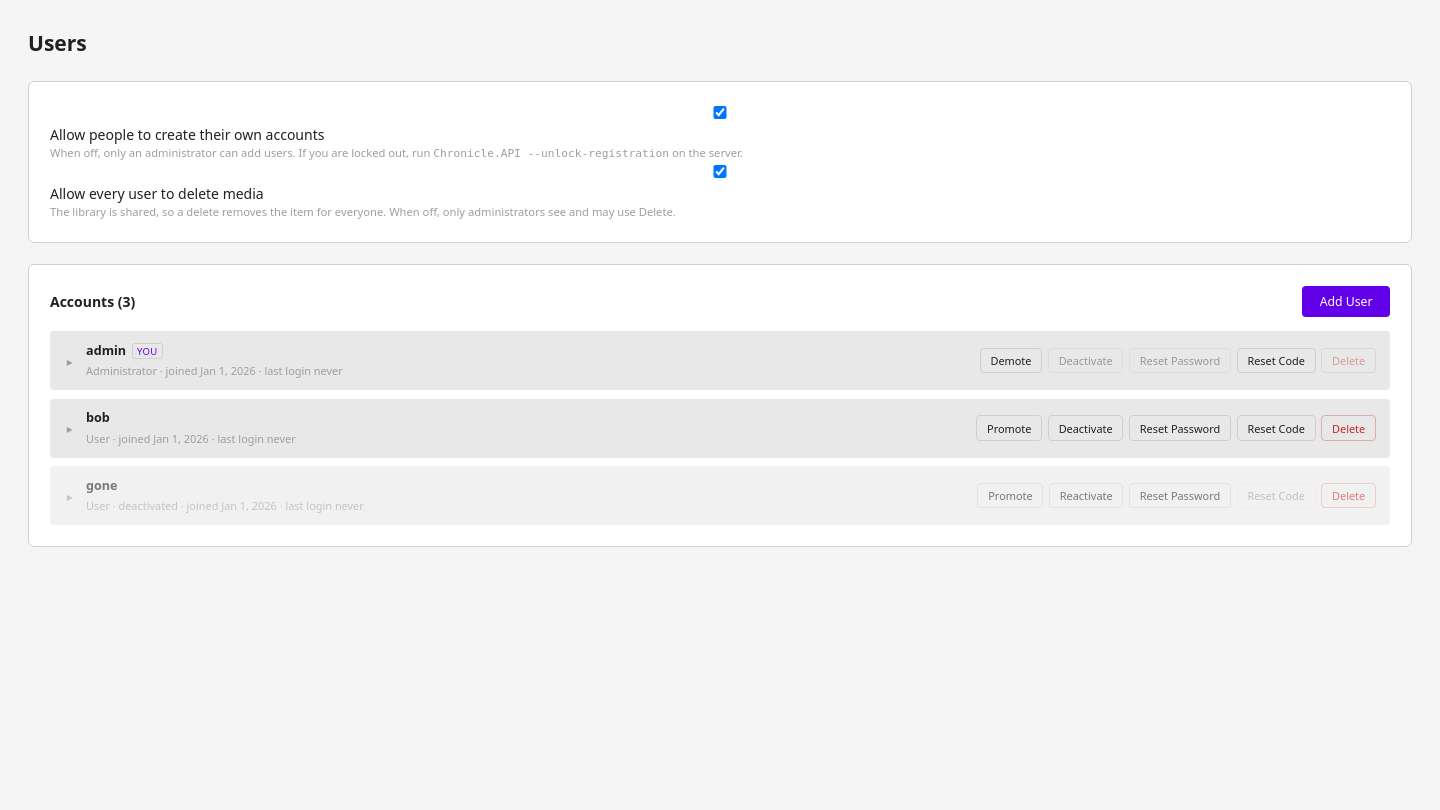
Test: UsersPage reset codes › shows a one-time code for the chosen person, with the link, and can be dismissed
The width and height of the screenshot is (1440, 810).
Click the button "Reset Code" in the row of "bob": click(1276, 428) [1237,415,1316,441]
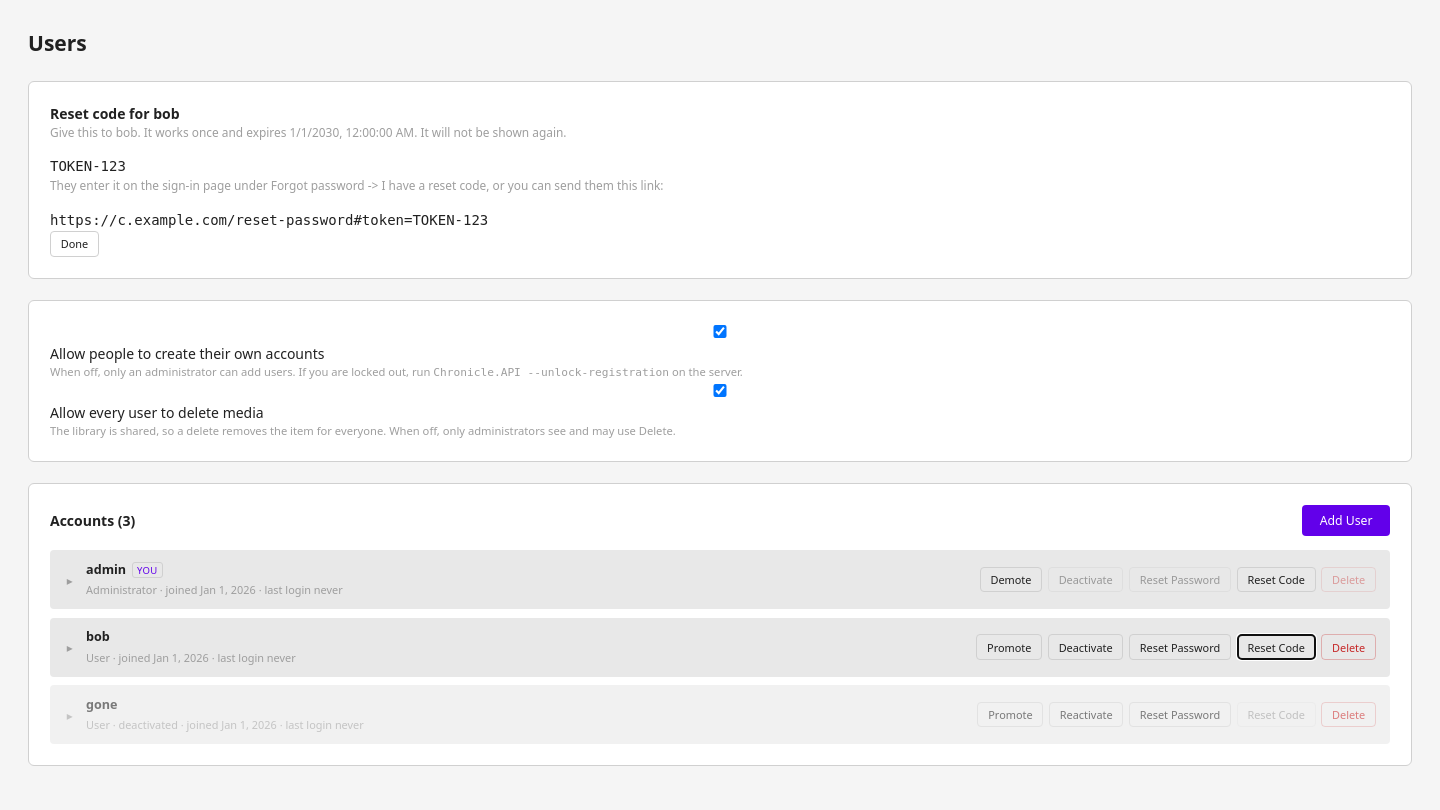
Result: the text with test id "reset-code" reads "TOKEN-123" at [50,158,126,174]
Result: the dialog "Reset code" shows "It will not be shown again" at [414,124,566,140]
Result: the dialog "Reset code" shows "https://c.example.com/reset-password#token=TOKEN-123" at [50,212,488,228]
Click the button "Done": click(74, 244) [50,231,99,257]
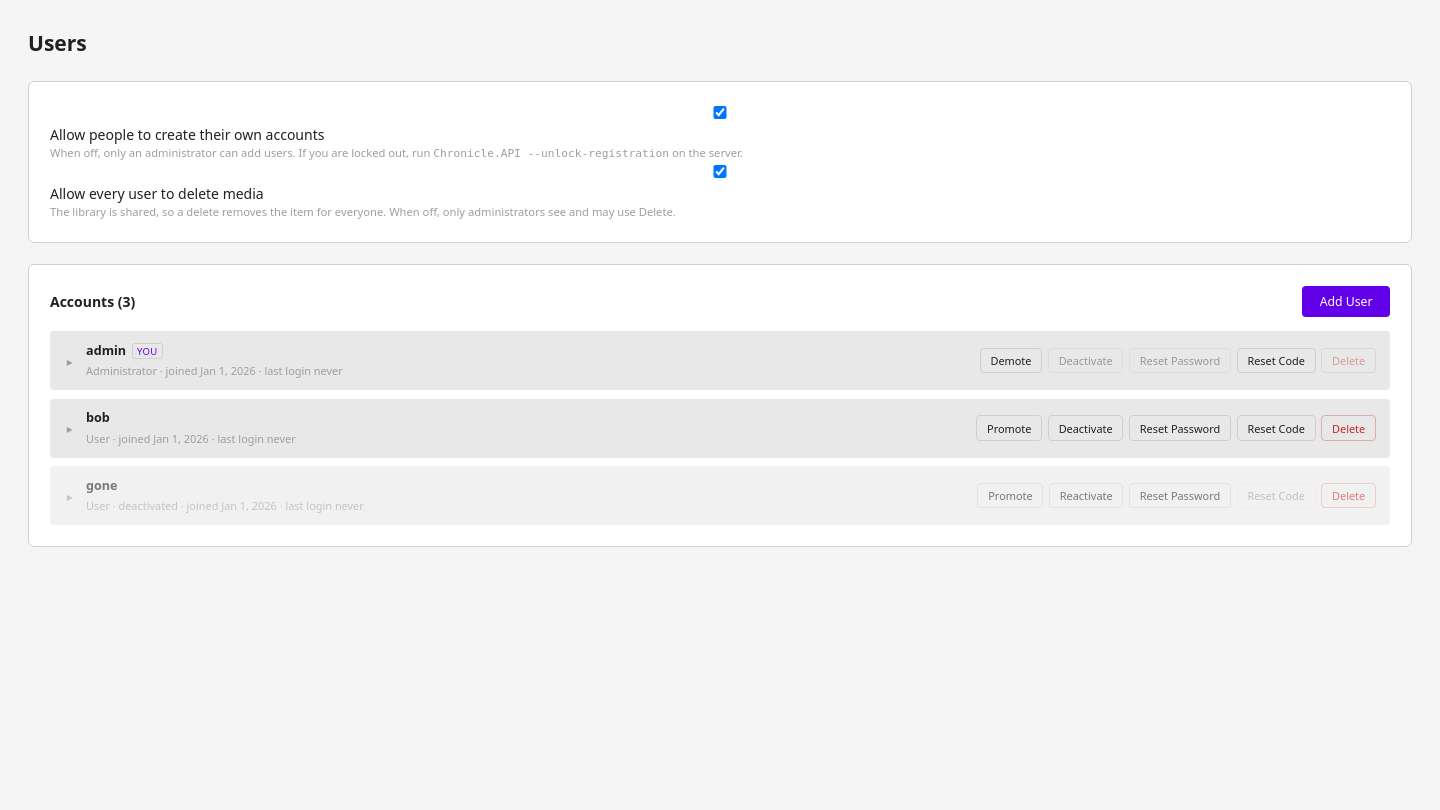
Result: the text "TOKEN-123" is gone
